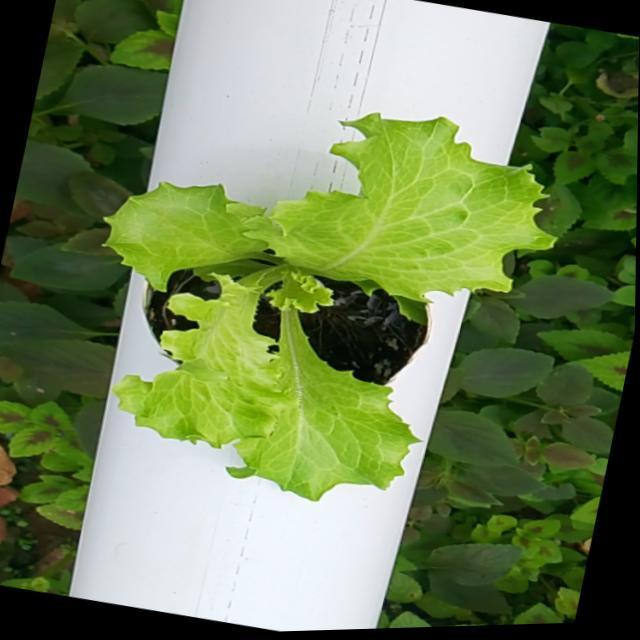Baby: (95, 109, 543, 494)
